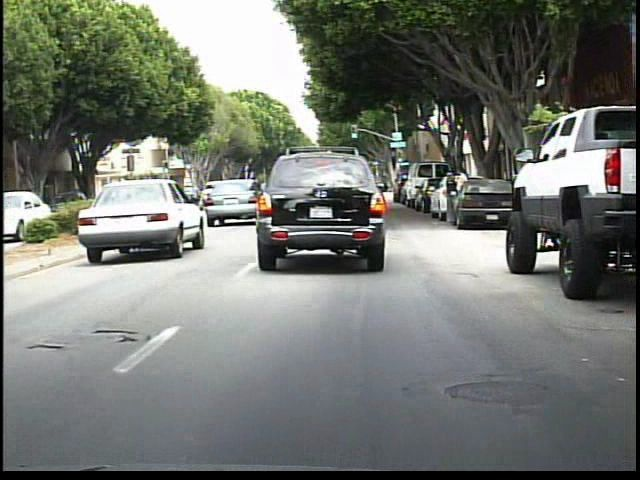person: (443, 172, 461, 229), (453, 165, 471, 221)
